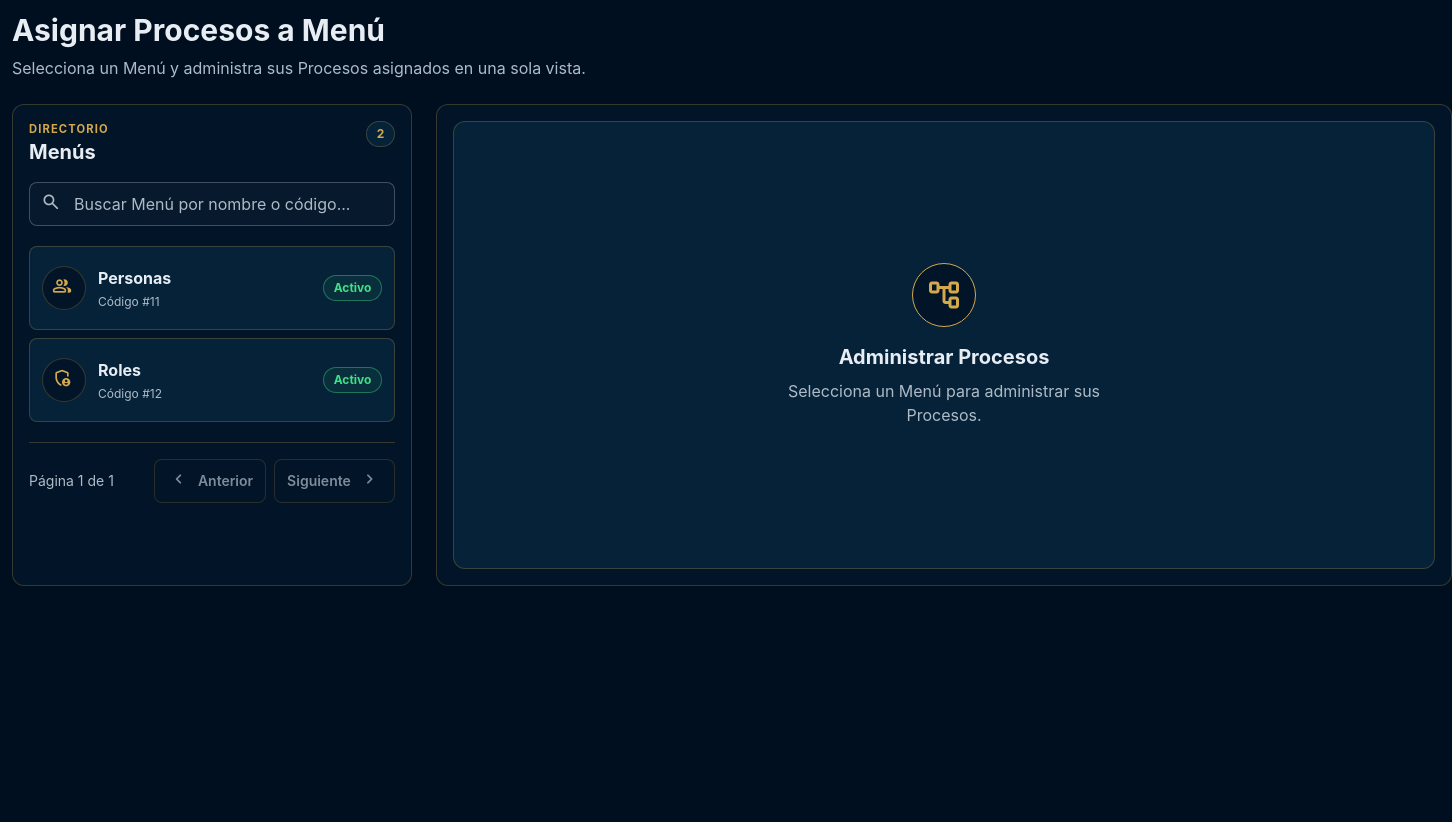
Test: AsignarProcesosListComponent › assigns a Proceso and refreshes the selected Menú
Click the button "Personas Código #11 Activo".
click(64, 288)  # box [29,246,395,330]
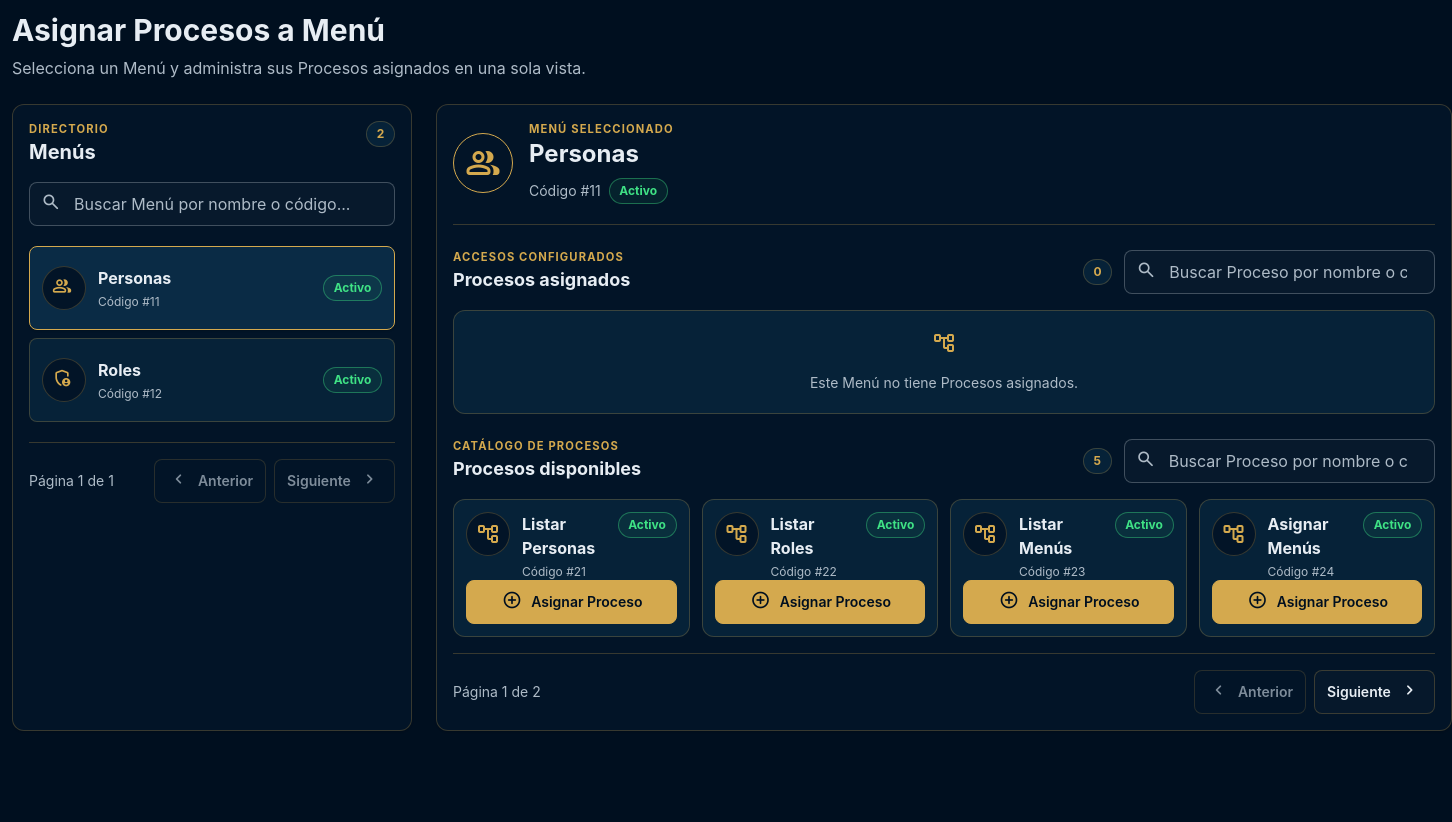
Click the button with class "menu-action-assign" below "Código #21".
click(571, 602)  # box [466,580,676,624]
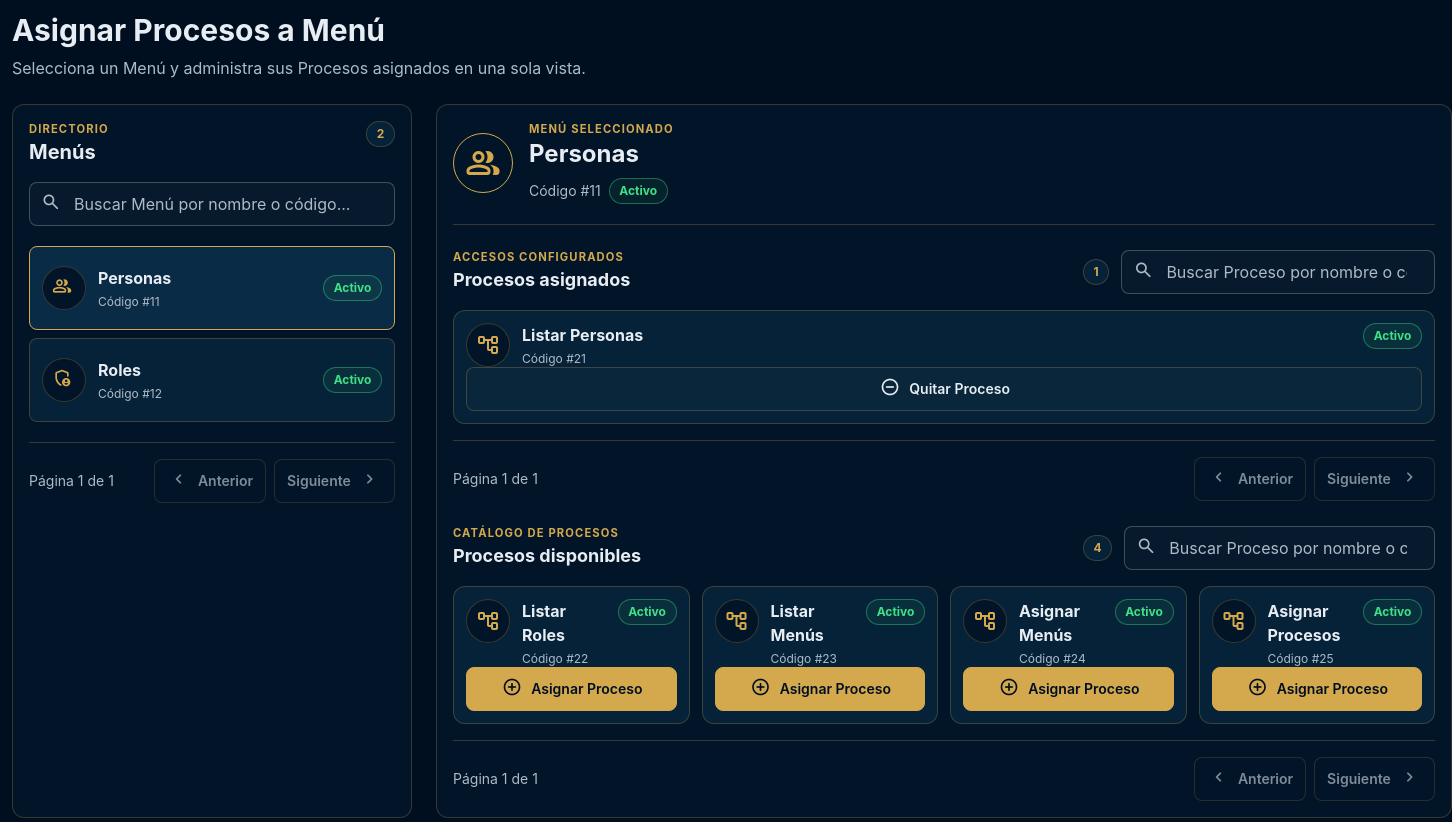
Now the element that starts with "Accesos configurados" shows "Listar Personas", box [522,325,643,345]
